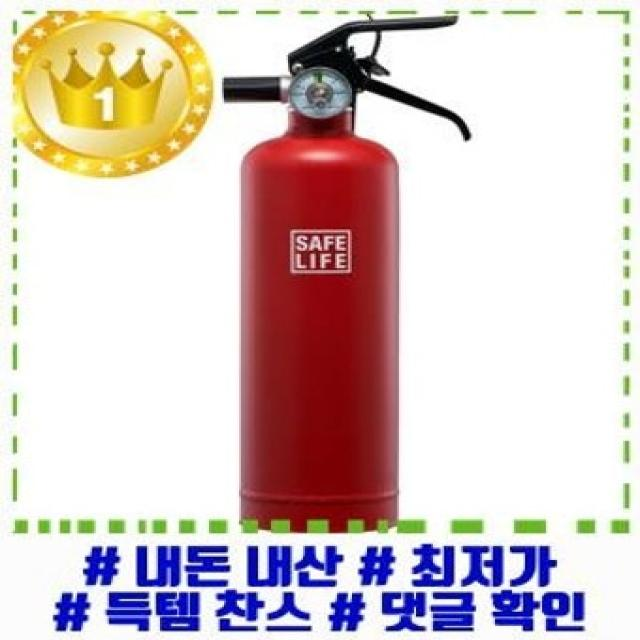pressure gauge: (288, 68, 351, 119)
